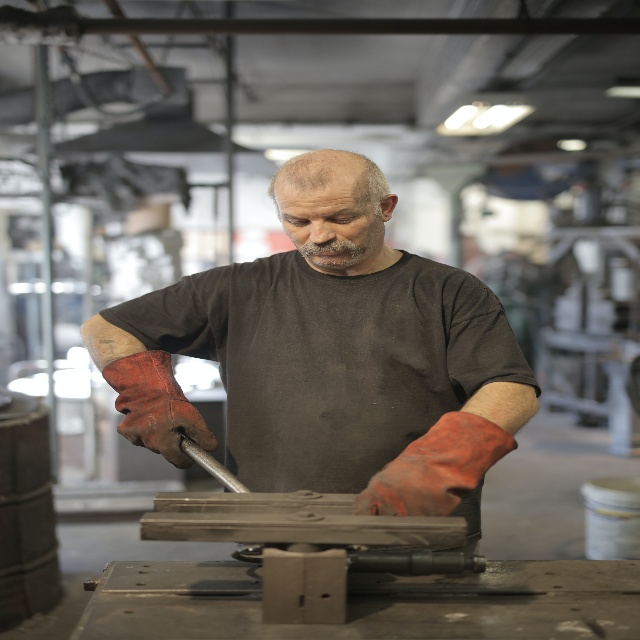Guantes: (350, 411, 518, 516), (101, 349, 219, 470)
